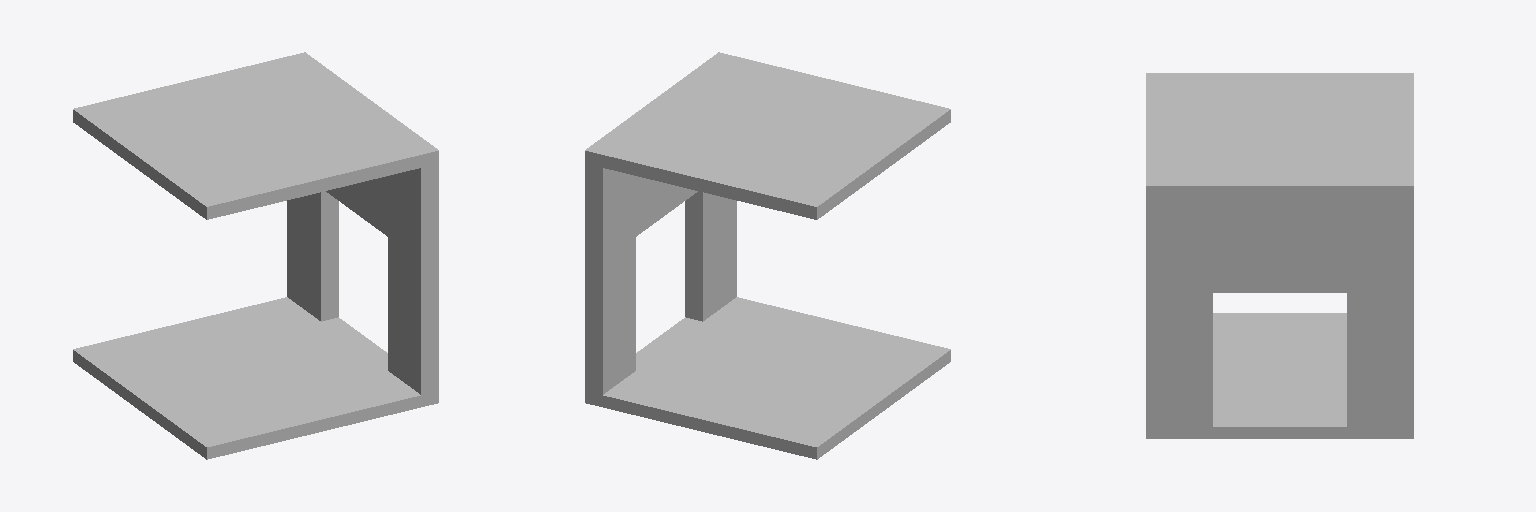
Rendered from Wall Door - Room.obj.
3 views of the same model, side by side, from view 1: azimuth 30°, elevation 25°; view 2: azimuth 150°, elevation 25°; view 3: azimuth 270°, elevation 25° (orthographic).
Visible parts, largest first — view 1: Cube.002; view 2: Cube.002; view 3: Cube.002.
Part boxes in pixels (x1,y1,x2,y2): Cube.002: (73, 52, 438, 459); Cube.002: (585, 52, 950, 459); Cube.002: (1146, 73, 1413, 438).
Size of the model in its own units: 2 by 2.08 by 2.